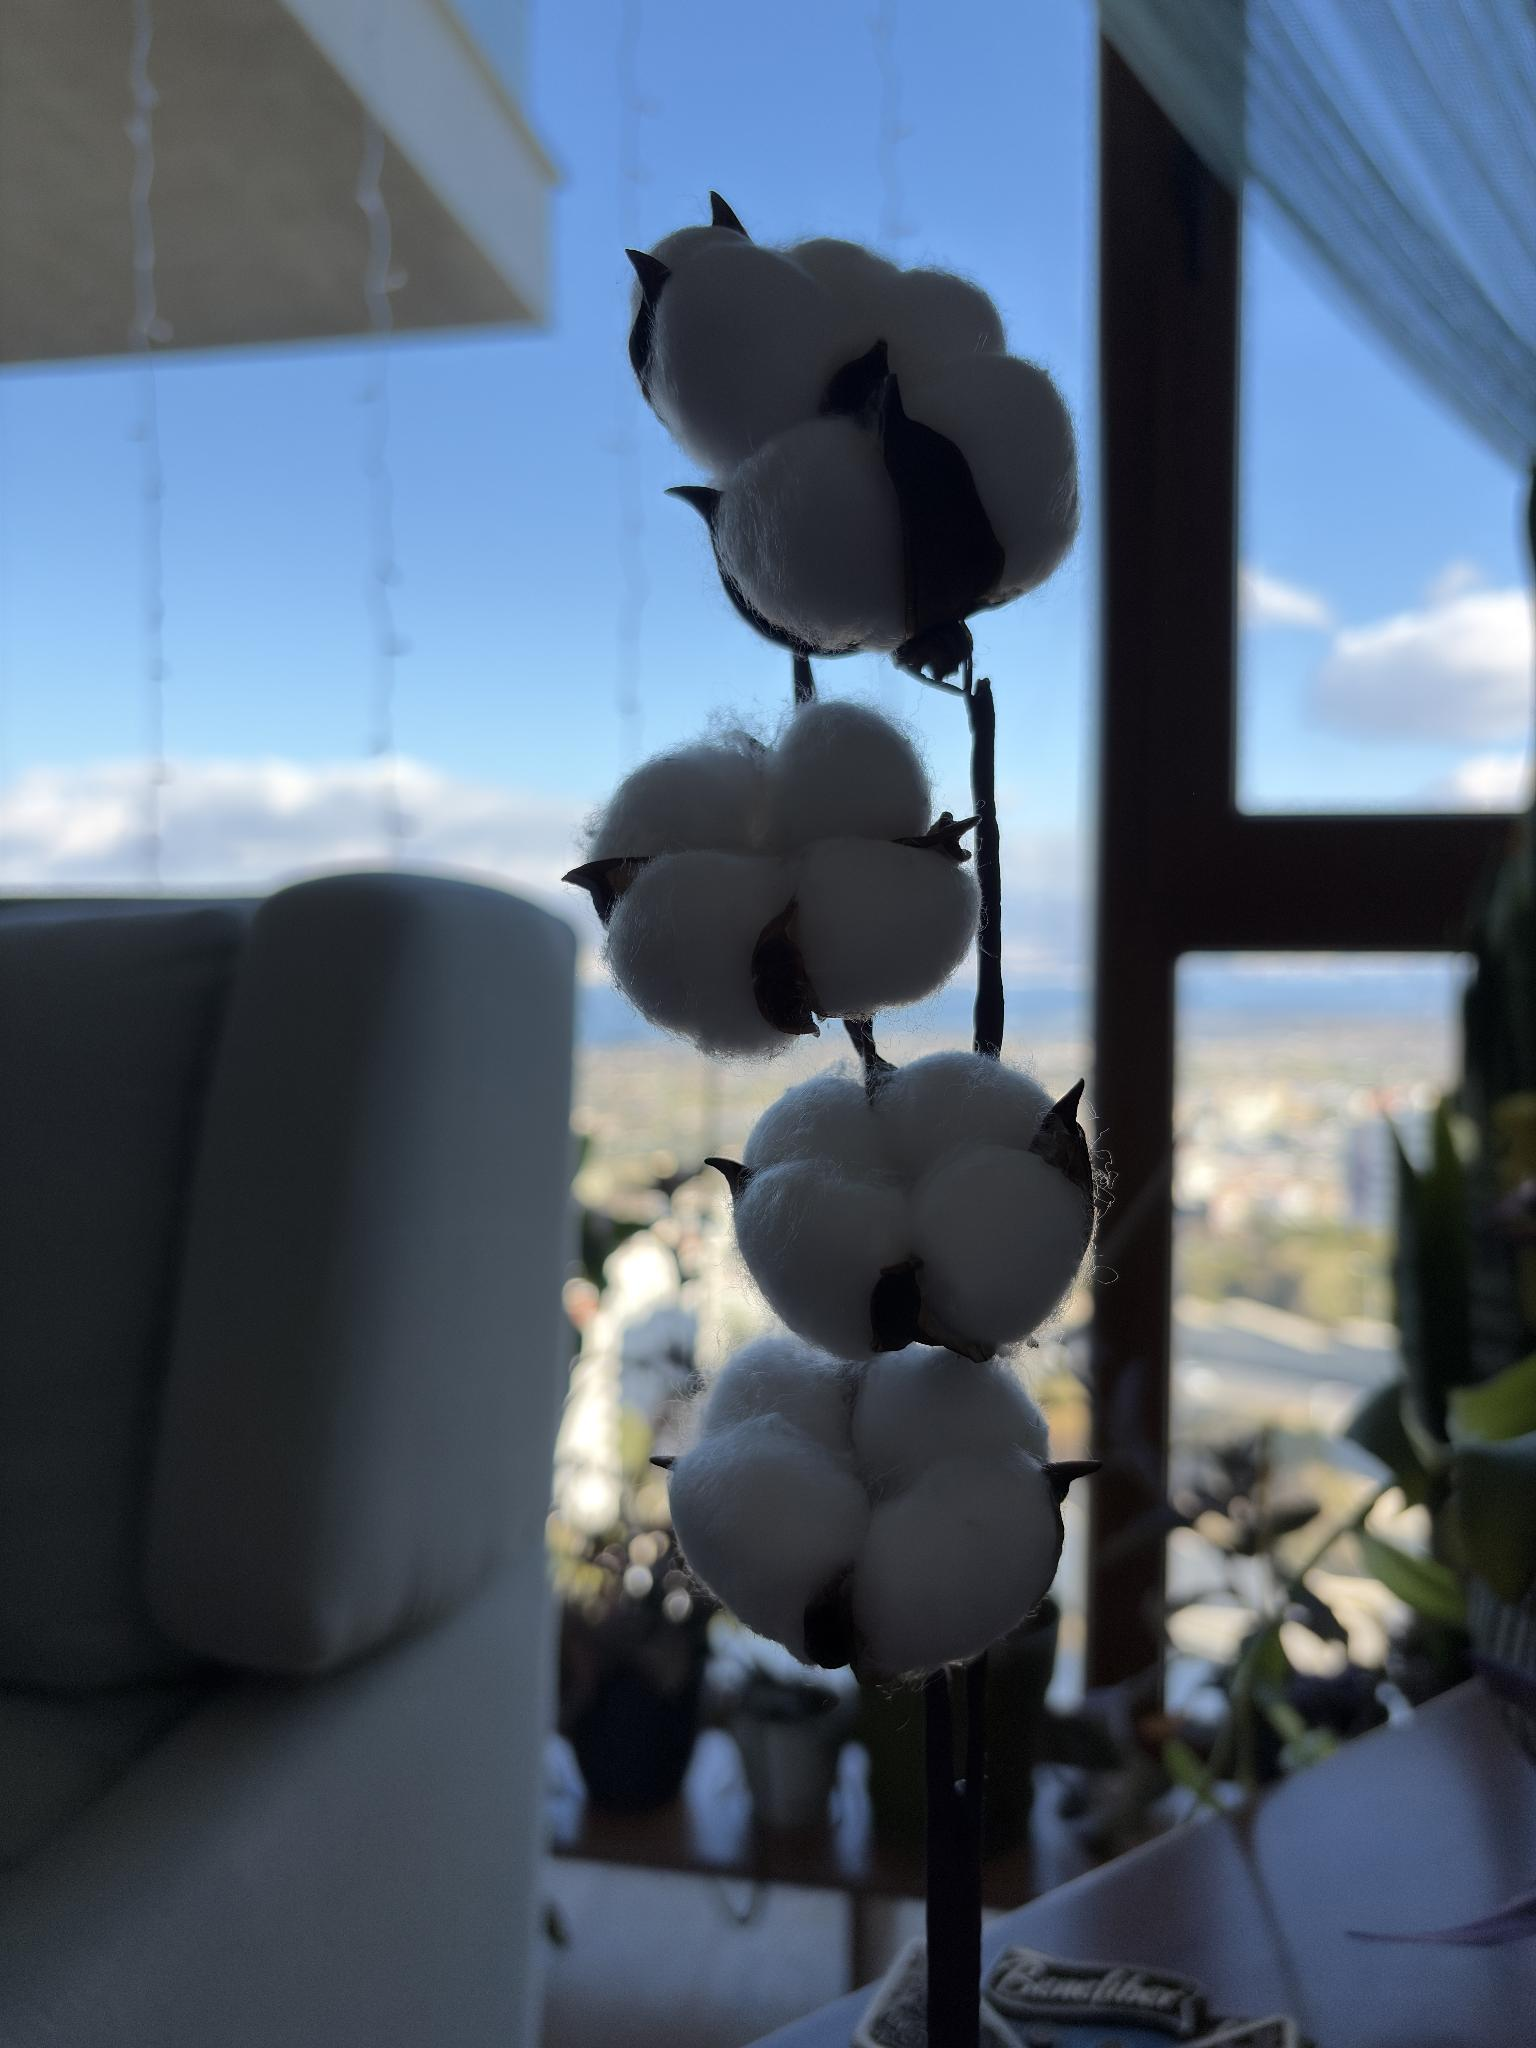cotton_boll: (645, 229, 854, 472), (670, 1413, 870, 1655), (854, 1445, 1063, 1672), (713, 418, 905, 653), (900, 355, 1079, 601), (607, 850, 792, 1053), (913, 1145, 1089, 1348), (734, 1161, 913, 1358), (792, 837, 978, 1016), (852, 1345, 1049, 1496), (765, 700, 931, 850), (873, 1050, 1050, 1180), (587, 735, 762, 864), (702, 1335, 855, 1453), (789, 237, 895, 389), (742, 1074, 894, 1176), (870, 269, 1005, 376), (834, 527, 836, 527)
cotton_boll-cluster: (620, 174, 1100, 671), (553, 679, 1002, 1056), (670, 1319, 1068, 1696), (723, 1042, 1121, 1363)
